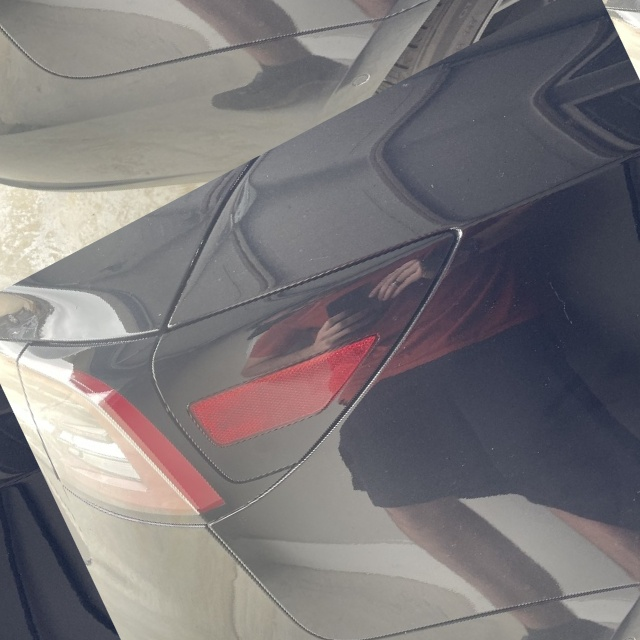reflector: (184, 310, 396, 468)
